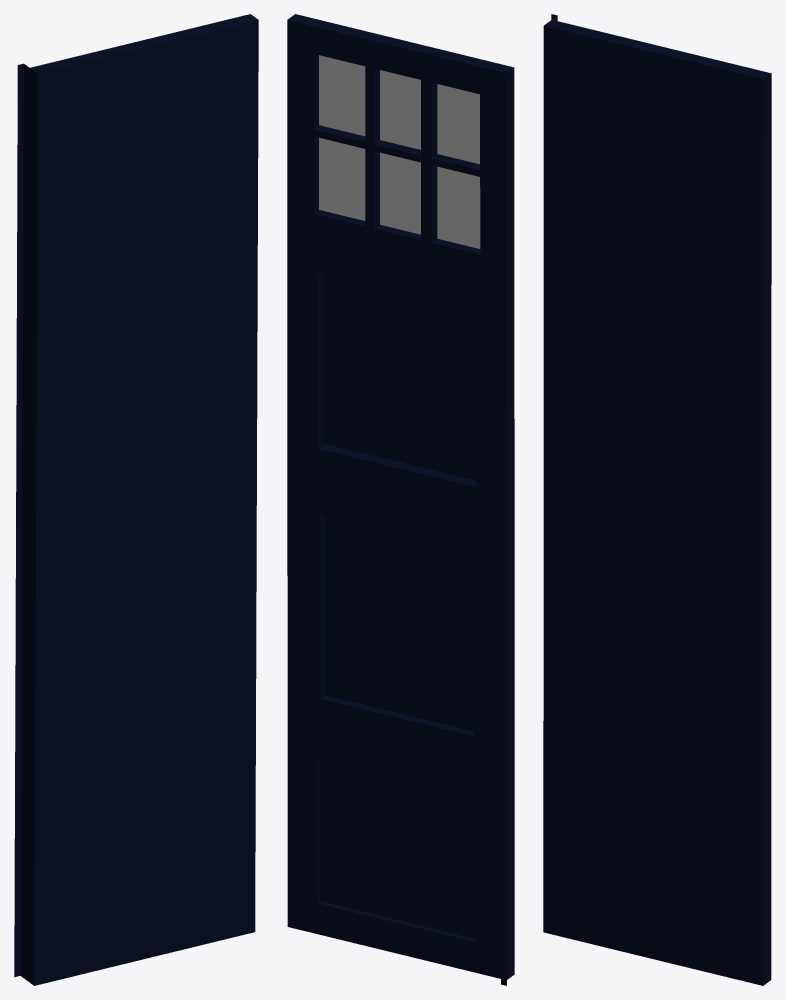
File: tardis_door_left.obj
3 views of the same model, side by side, from view 1: azimuth 30°, elevation 25°; view 2: azimuth 150°, elevation 25°; view 3: azimuth 330°, elevation 25° (orthographic).
Parts seen in each view (by area): view 1: Exterior.001_Cube.000; view 2: Exterior.001_Cube.000; view 3: Exterior.001_Cube.000.
Part boxes in pixels (box(x1,y1,x2,y2)): Exterior.001_Cube.000: box(14, 14, 258, 985); Exterior.001_Cube.000: box(287, 14, 514, 985); Exterior.001_Cube.000: box(543, 14, 771, 985).
Size of the model in its own units: 0.8159 by 3.11 by 0.0954.
